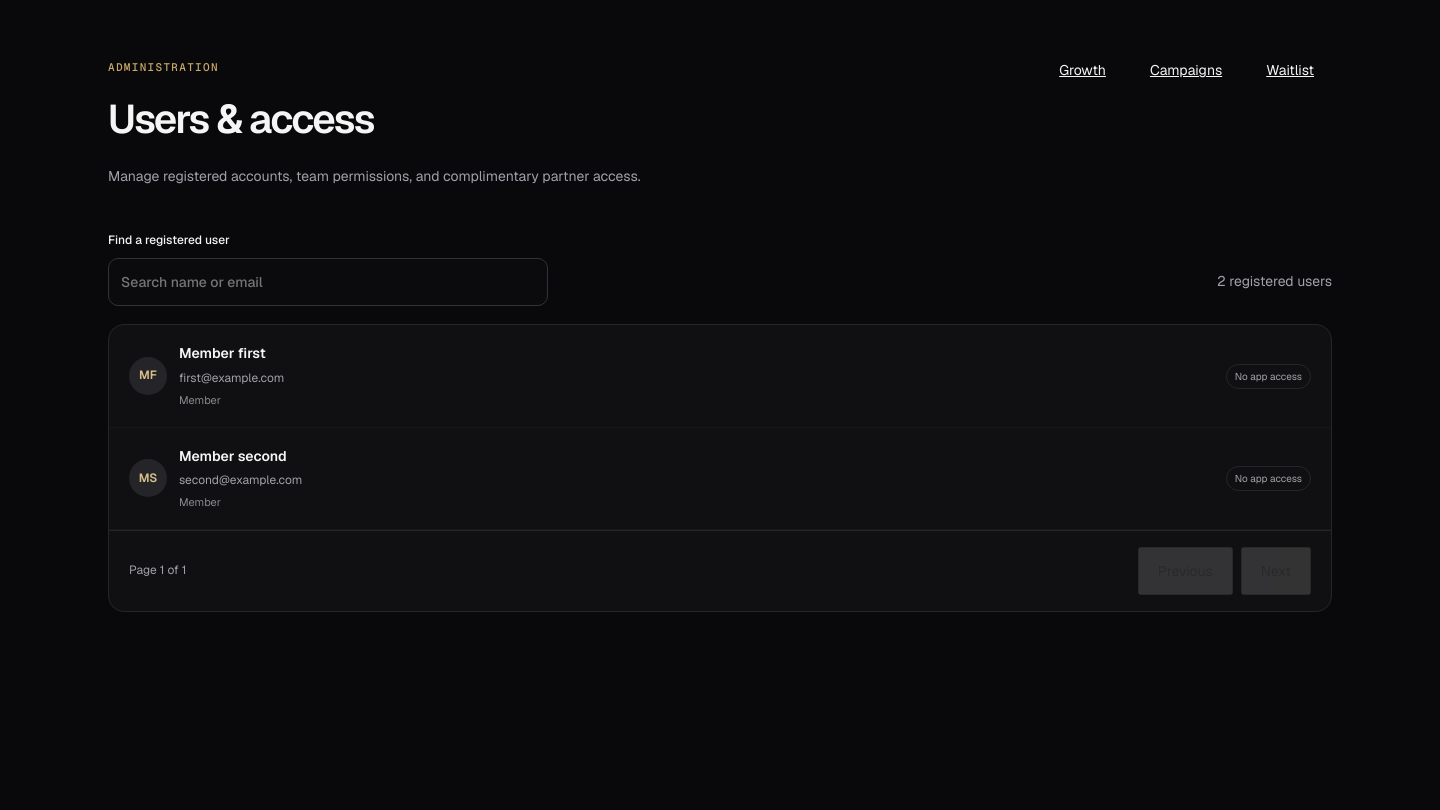
Test: bounded account browsing › ignores a previous user’s detail response after selecting another account
Click the button "MF Member first first@example.com Member No app access" at (148, 376), box [109,326,1331,428]
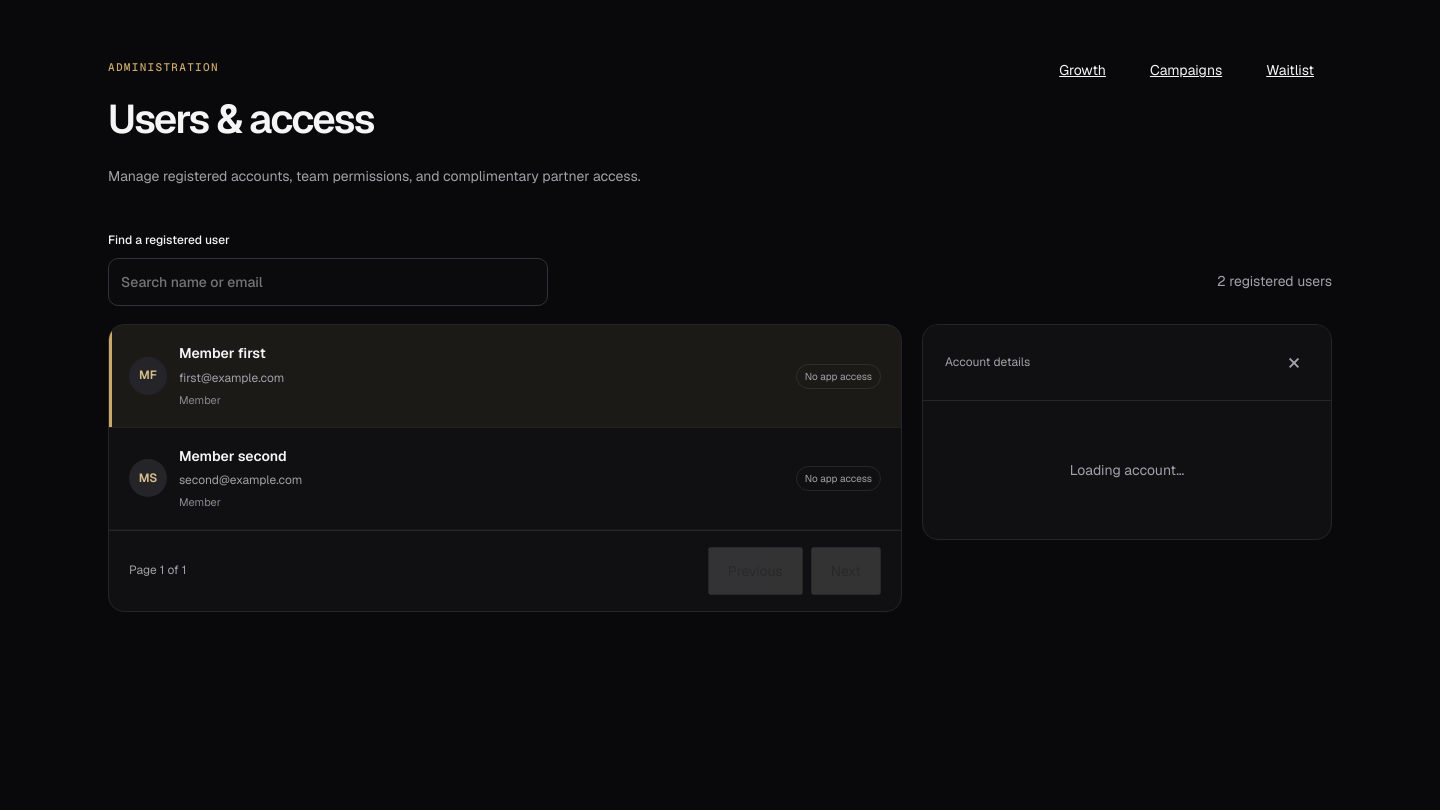
Click the button "MS Member second second@example.com Member No app access" at (148, 478), box [109,428,901,530]
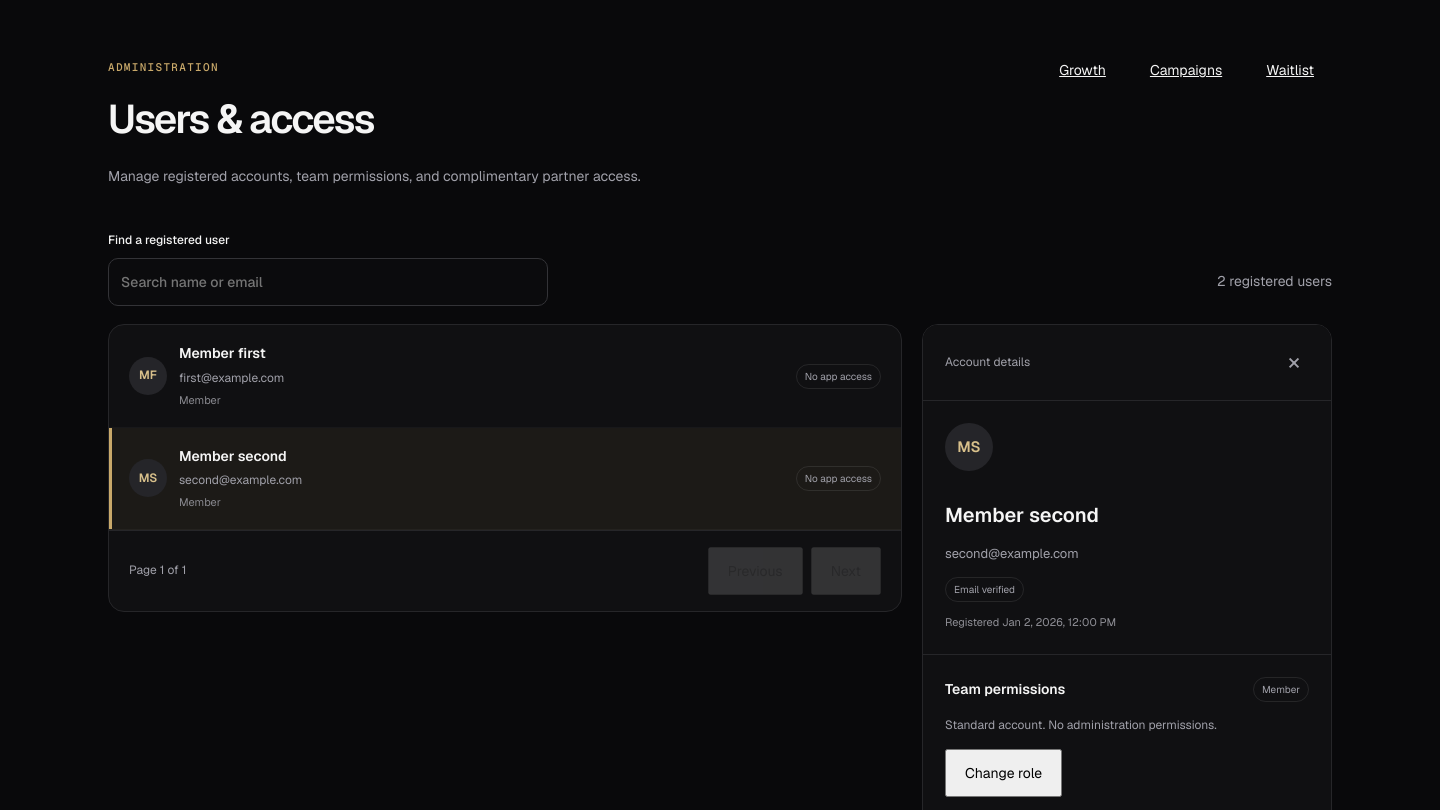
Result: the heading "Member second" is shown at [945,502,1099,528]
